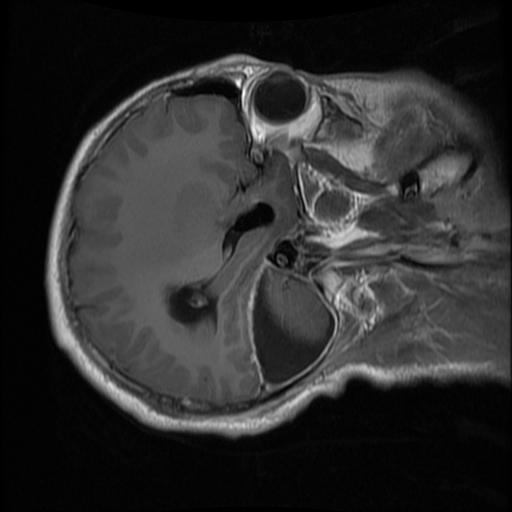glioma: (250, 272, 336, 385)
